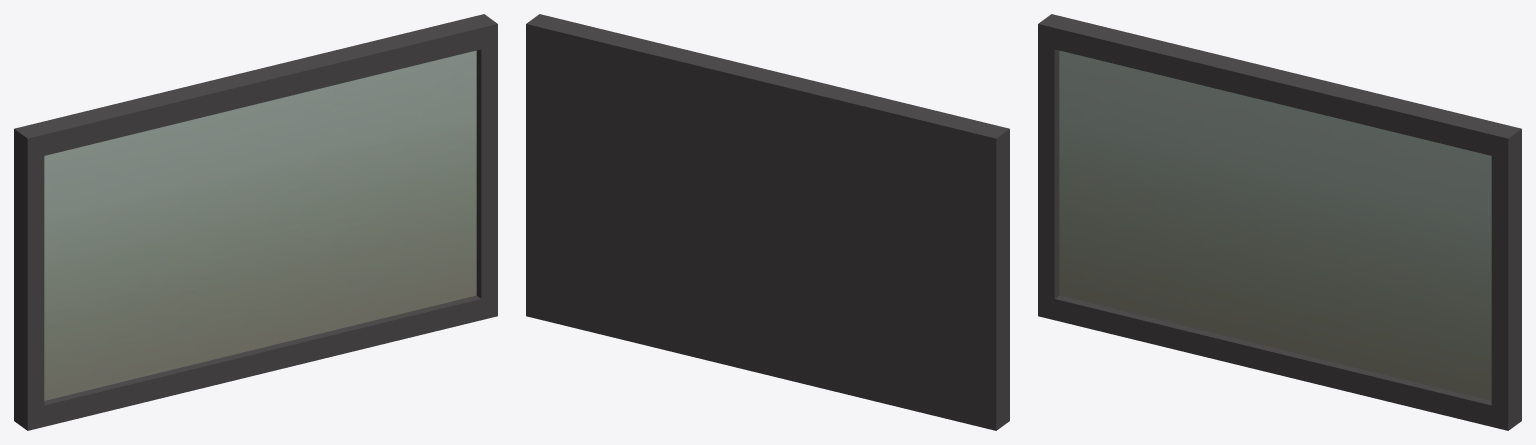
The model's file is SM_Tv_Wall_1_01.fbx.
3 views of the same model, side by side, from view 1: azimuth 30°, elevation 25°; view 2: azimuth 150°, elevation 25°; view 3: azimuth 330°, elevation 25° (orthographic).
Parts seen in each view (by area): view 1: SM_Tv_Wall_1_01; view 2: SM_Tv_Wall_1_01; view 3: SM_Tv_Wall_1_01.
Boxes of the visible parts, x1,y1,x2,y2 form: SM_Tv_Wall_1_01: (14,14,497,430); SM_Tv_Wall_1_01: (526,14,1009,430); SM_Tv_Wall_1_01: (1038,14,1521,430).
Size of the model in its own units: 177 by 105 by 8.86.
